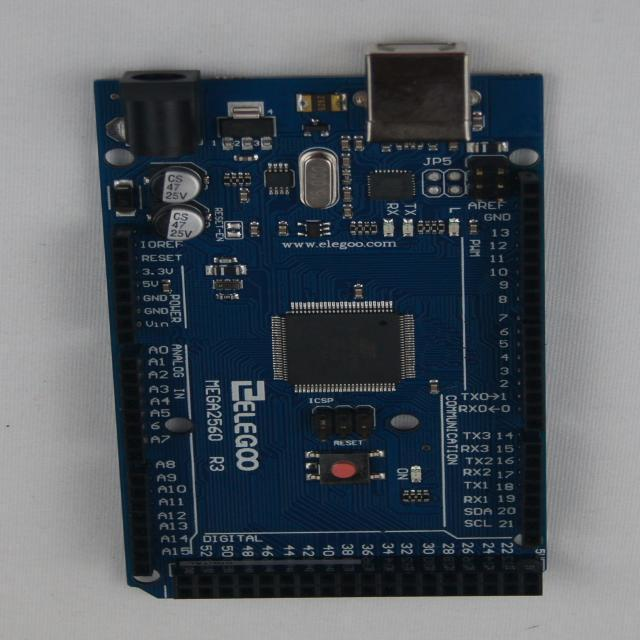Arduino Mega 2560 -Blue-: (96, 44, 547, 599)
